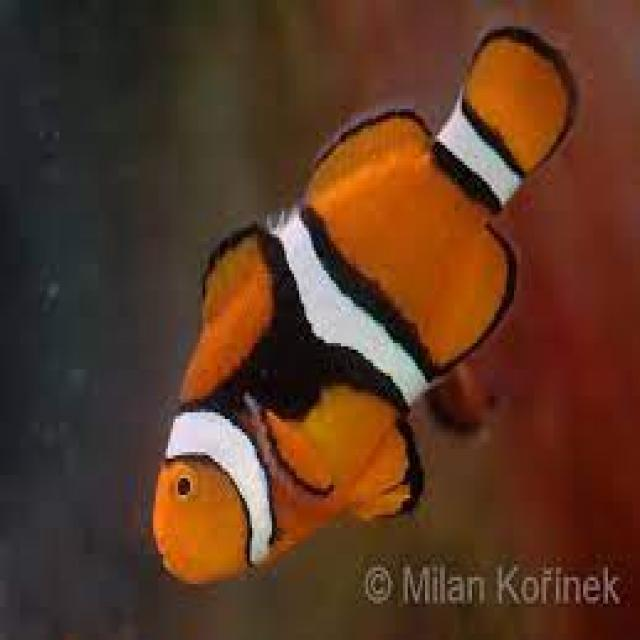ClownFish: (148, 20, 582, 583)
